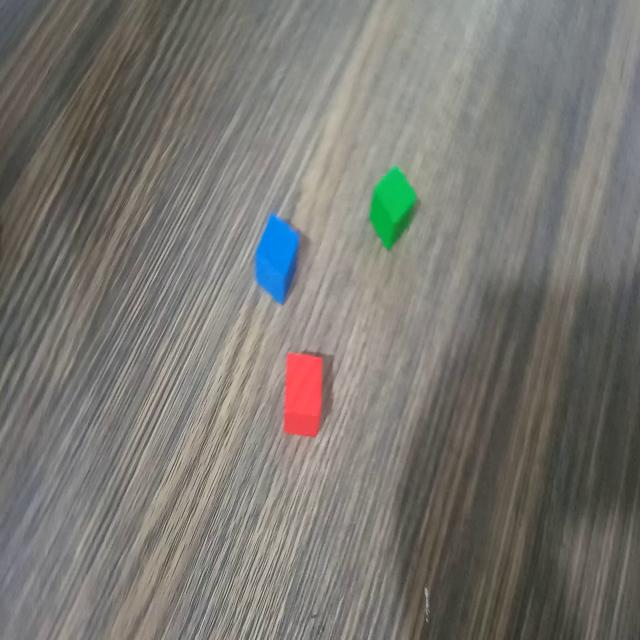cube: (366, 161, 420, 251), (252, 211, 301, 307), (282, 349, 325, 441)
